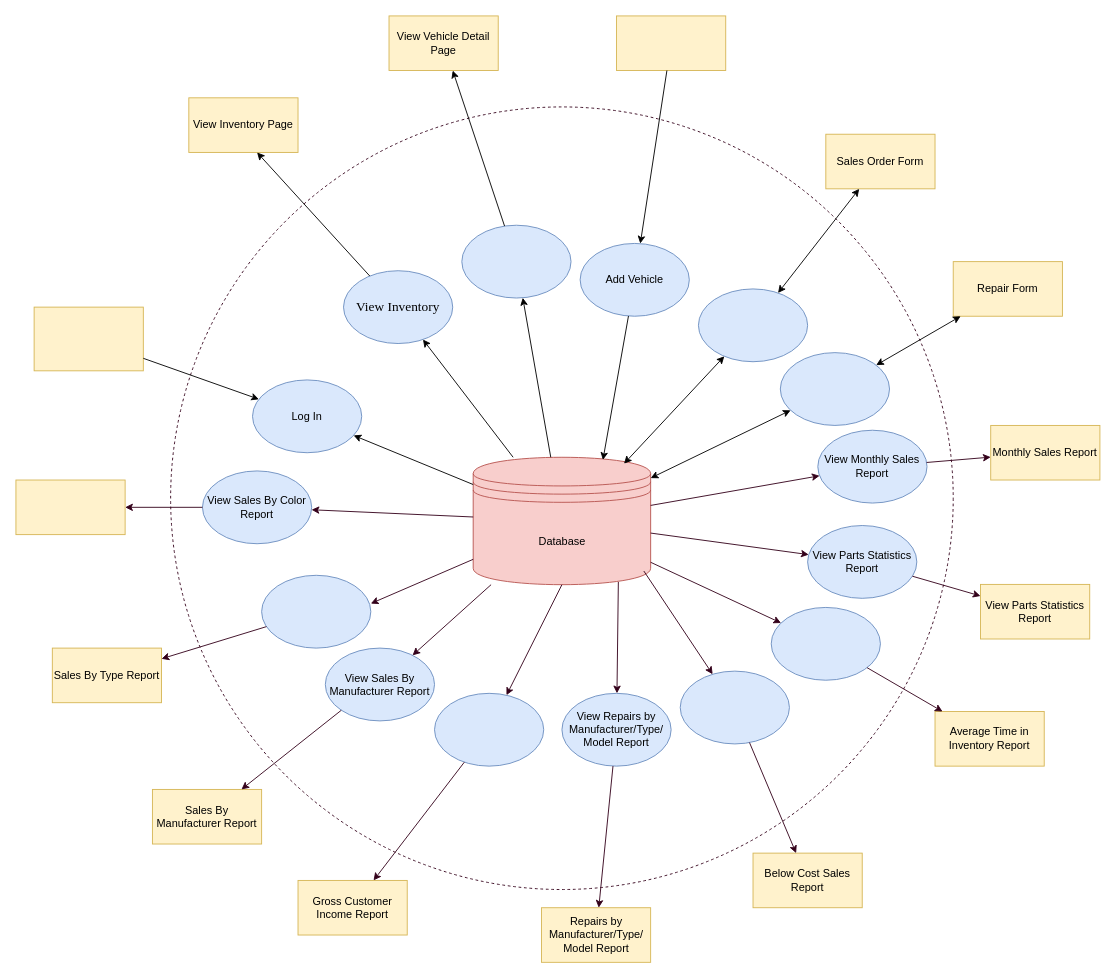
Some shapes in this 1117 by 978 pixel diagram are drawn without their labels. The box of each missing label's shape, as (x1, y1, x2, y2) in pixels:
Add Vehicle Form: (616, 15, 726, 71)
Login Form: (33, 306, 143, 371)
Repair Order: (779, 352, 890, 425)
Sales By Color Report: (15, 479, 125, 535)
Sales Order: (698, 288, 808, 362)
View Average Time in Inventory Report: (770, 607, 880, 680)
View Below Cost Sales Report: (679, 670, 789, 744)
View Gross Customer Income Report: (434, 692, 544, 766)
View Sales By Type Report: (261, 574, 371, 648)
View Vehicle Detail: (461, 224, 571, 298)
